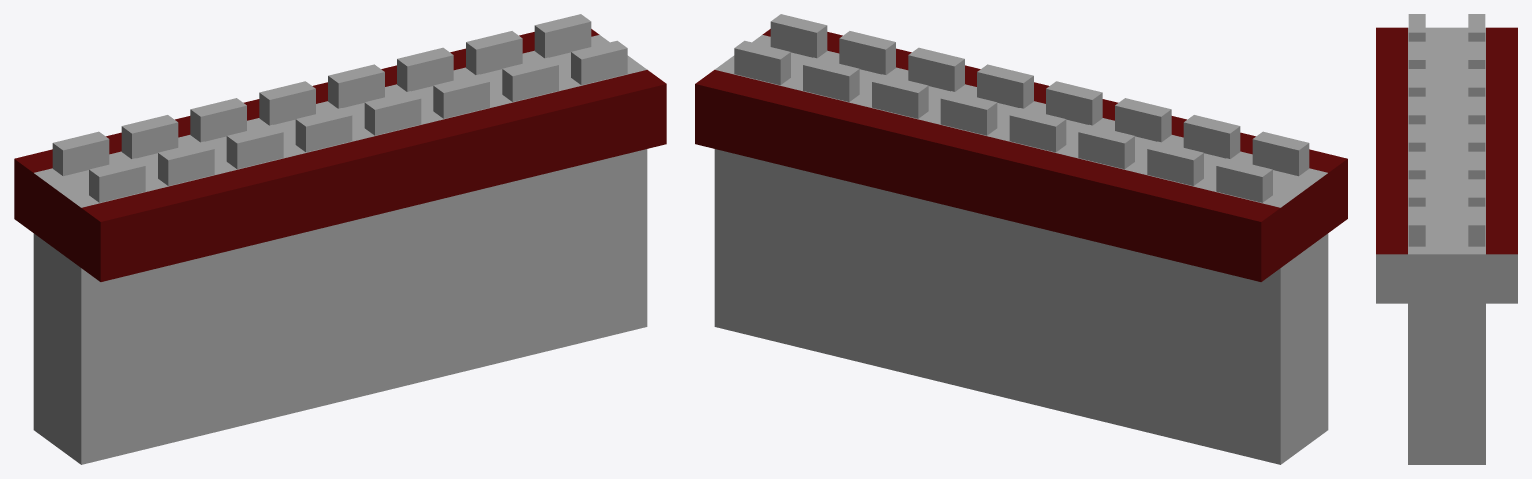
Rendered from Fort wall.fbx.
3 renders of one model, left to right at view 1: azimuth 30°, elevation 25°; view 2: azimuth 150°, elevation 25°; view 3: azimuth 270°, elevation 25°, orthographic. The views are drawn at different scales.
Visible parts, largest first — view 1: castle_Box174, castle_Box180, castle_Box179, castle_Box178, castle_Box171, castle_Box175, castle_Box187, castle_Box176, castle_Box177, castle_Box186, castle_Box172, castle_Box173 (+5 smaller); view 2: castle_Box174, castle_Box185, castle_Box184, castle_Box172, castle_Box173, castle_Box186, castle_Box171, castle_Box181, castle_Box183, castle_Box182, castle_Box187, castle_Box175 (+5 smaller); view 3: castle_Box174, castle_Box186, castle_Box187, castle_Box177, castle_Box179, castle_Box183, castle_Box185, castle_Box171, castle_Box172, castle_Box176, castle_Box178, castle_Box180 (+5 smaller).
Part boxes in pixels (box(x1,y1,x2,y2)): castle_Box174: box(14, 29, 666, 464); castle_Box180: box(226, 124, 283, 169); castle_Box179: box(295, 108, 352, 152); castle_Box178: box(364, 91, 421, 135); castle_Box171: box(52, 131, 109, 176); castle_Box175: box(121, 115, 178, 158); castle_Box187: box(534, 14, 591, 58); castle_Box176: box(502, 57, 558, 101); castle_Box177: box(433, 74, 489, 118); castle_Box186: box(571, 40, 627, 85); castle_Box172: box(89, 158, 145, 202); castle_Box173: box(158, 141, 214, 185); castle_Box174: box(695, 29, 1347, 464); castle_Box185: box(1009, 108, 1066, 152); castle_Box184: box(940, 91, 997, 135); castle_Box172: box(1252, 131, 1309, 176); castle_Box173: box(1183, 115, 1240, 158); castle_Box186: box(770, 14, 827, 58); castle_Box171: box(1216, 158, 1272, 202); castle_Box181: box(1078, 124, 1134, 169); castle_Box183: box(872, 74, 928, 118); castle_Box182: box(803, 57, 859, 101); castle_Box187: box(734, 40, 790, 85); castle_Box175: box(1147, 141, 1203, 185); castle_Box174: box(1376, 27, 1517, 464); castle_Box186: box(1408, 206, 1425, 246); castle_Box187: box(1468, 206, 1485, 246); castle_Box177: box(1408, 151, 1425, 179); castle_Box179: box(1408, 96, 1425, 124); castle_Box183: box(1468, 151, 1485, 179); castle_Box185: box(1468, 96, 1485, 124); castle_Box171: box(1468, 14, 1485, 41); castle_Box172: box(1408, 14, 1425, 41); castle_Box176: box(1408, 179, 1425, 206); castle_Box178: box(1408, 124, 1425, 151); castle_Box180: box(1408, 69, 1425, 96).
Size of the model in its own units: 5.28 by 2.52 by 1.4.
